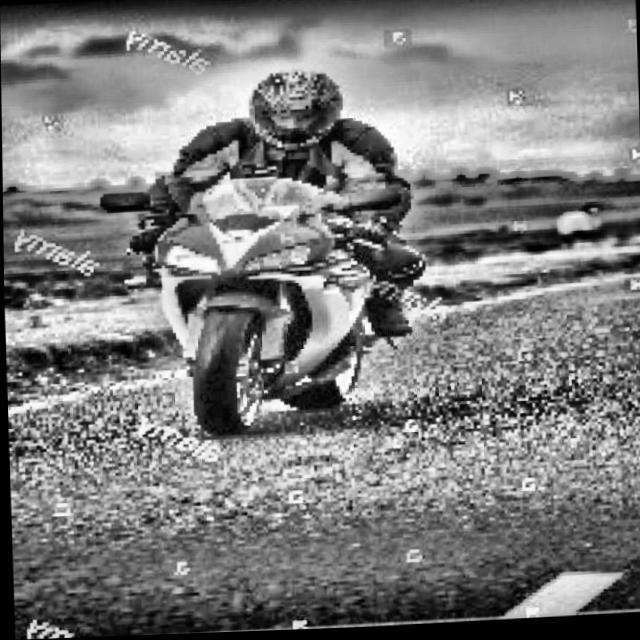motorcycle: (101, 163, 441, 458)
